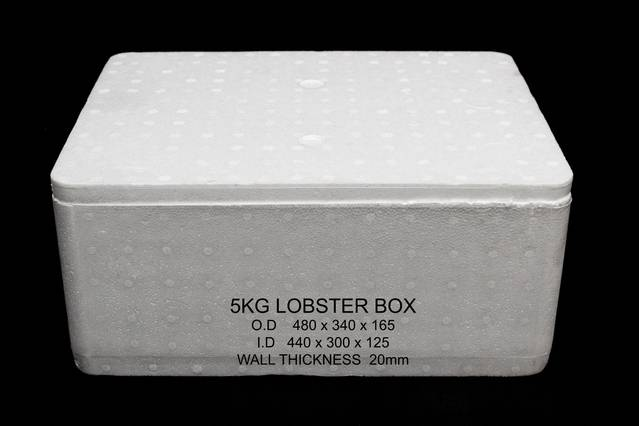泡沫箱: (51, 52, 571, 376)
